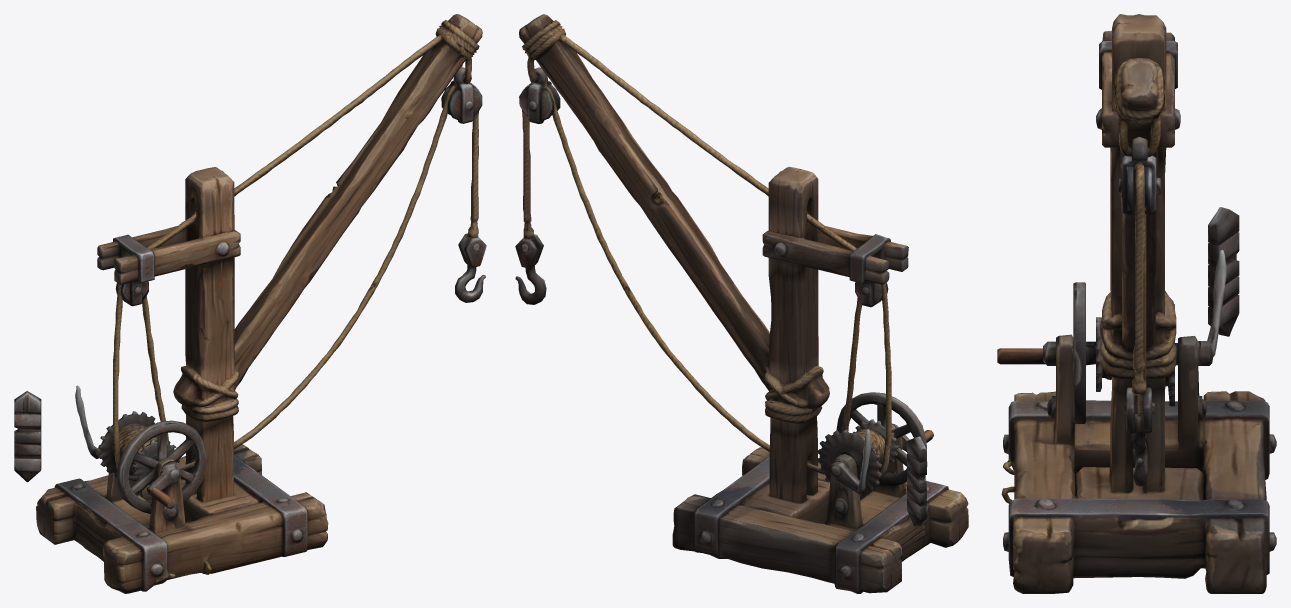
Rendered from wooden jib crane 3d model.glb.
3 renders of one model, left to right at view 1: azimuth 30°, elevation 25°; view 2: azimuth 150°, elevation 25°; view 3: azimuth 270°, elevation 25°, orthographic. The views are drawn at different scales.
Parts seen in each view (by area): view 1: tripo_node_f7e7d379-2793-444b-ad49-f1d496812a83; view 2: tripo_node_f7e7d379-2793-444b-ad49-f1d496812a83; view 3: tripo_node_f7e7d379-2793-444b-ad49-f1d496812a83.
Part boxes in pixels (x1,y1,x2,y2): tripo_node_f7e7d379-2793-444b-ad49-f1d496812a83: (14,14,486,593); tripo_node_f7e7d379-2793-444b-ad49-f1d496812a83: (515,14,968,593); tripo_node_f7e7d379-2793-444b-ad49-f1d496812a83: (997,14,1276,593).
Bounding box in the file's own units: 0.9784 × 0.9784 × 0.3734.
Materials: 1 (1 with a texture image).
